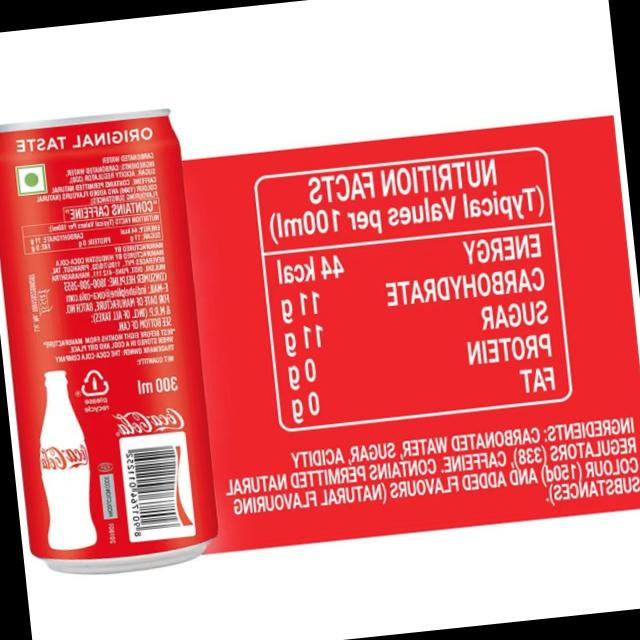cocacola: (0, 87, 248, 609)
